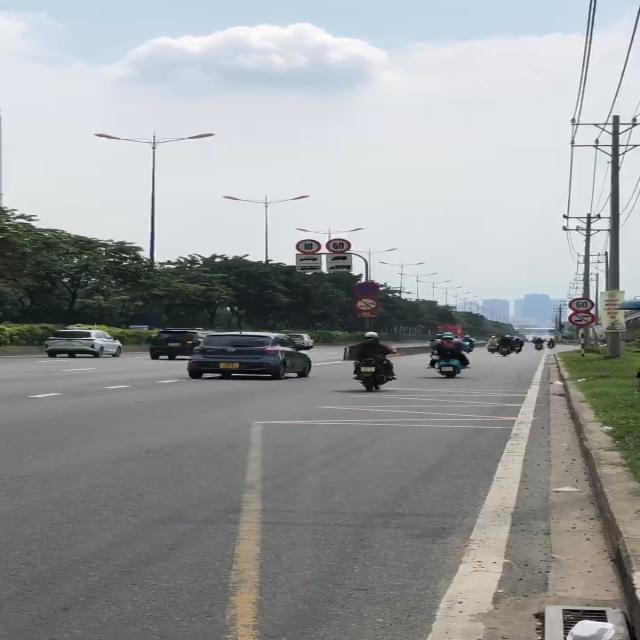Bien bao toc do toi da cho phep: (566, 296, 598, 313), (324, 237, 352, 254), (294, 238, 322, 254)
